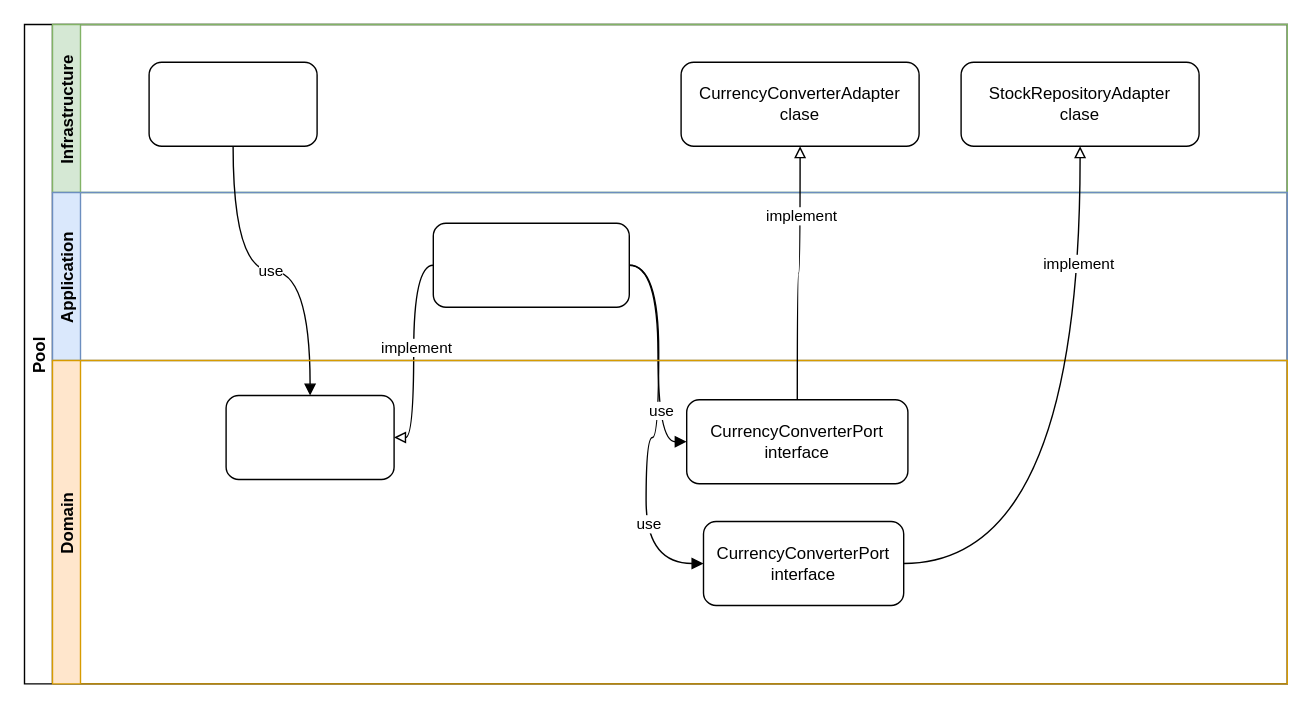
The diagram is 1312 pixels wide and 708 high, and some of its shapes have lost their labels. The shapes that lost their labels are listed below. From the top down, each one's centre as x and y in pixels, then its label:
At (232,103): "Lambda Adapter".
At (530,264): "GetCurrencyUseCase clase".
At (309,436): "GetCurrencyPort interface".
